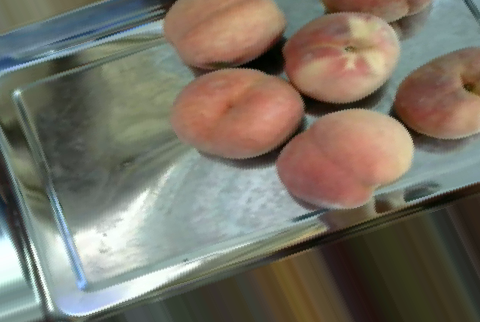Peach: (276, 106, 414, 208), (169, 67, 303, 160), (283, 11, 400, 103), (392, 43, 480, 142), (162, 0, 286, 68), (322, 0, 432, 20)
